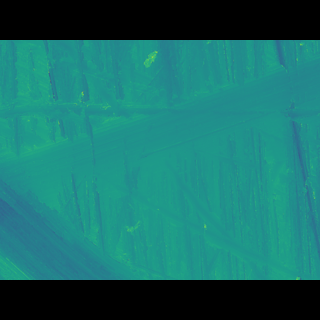Loch: (0, 80, 320, 250)
